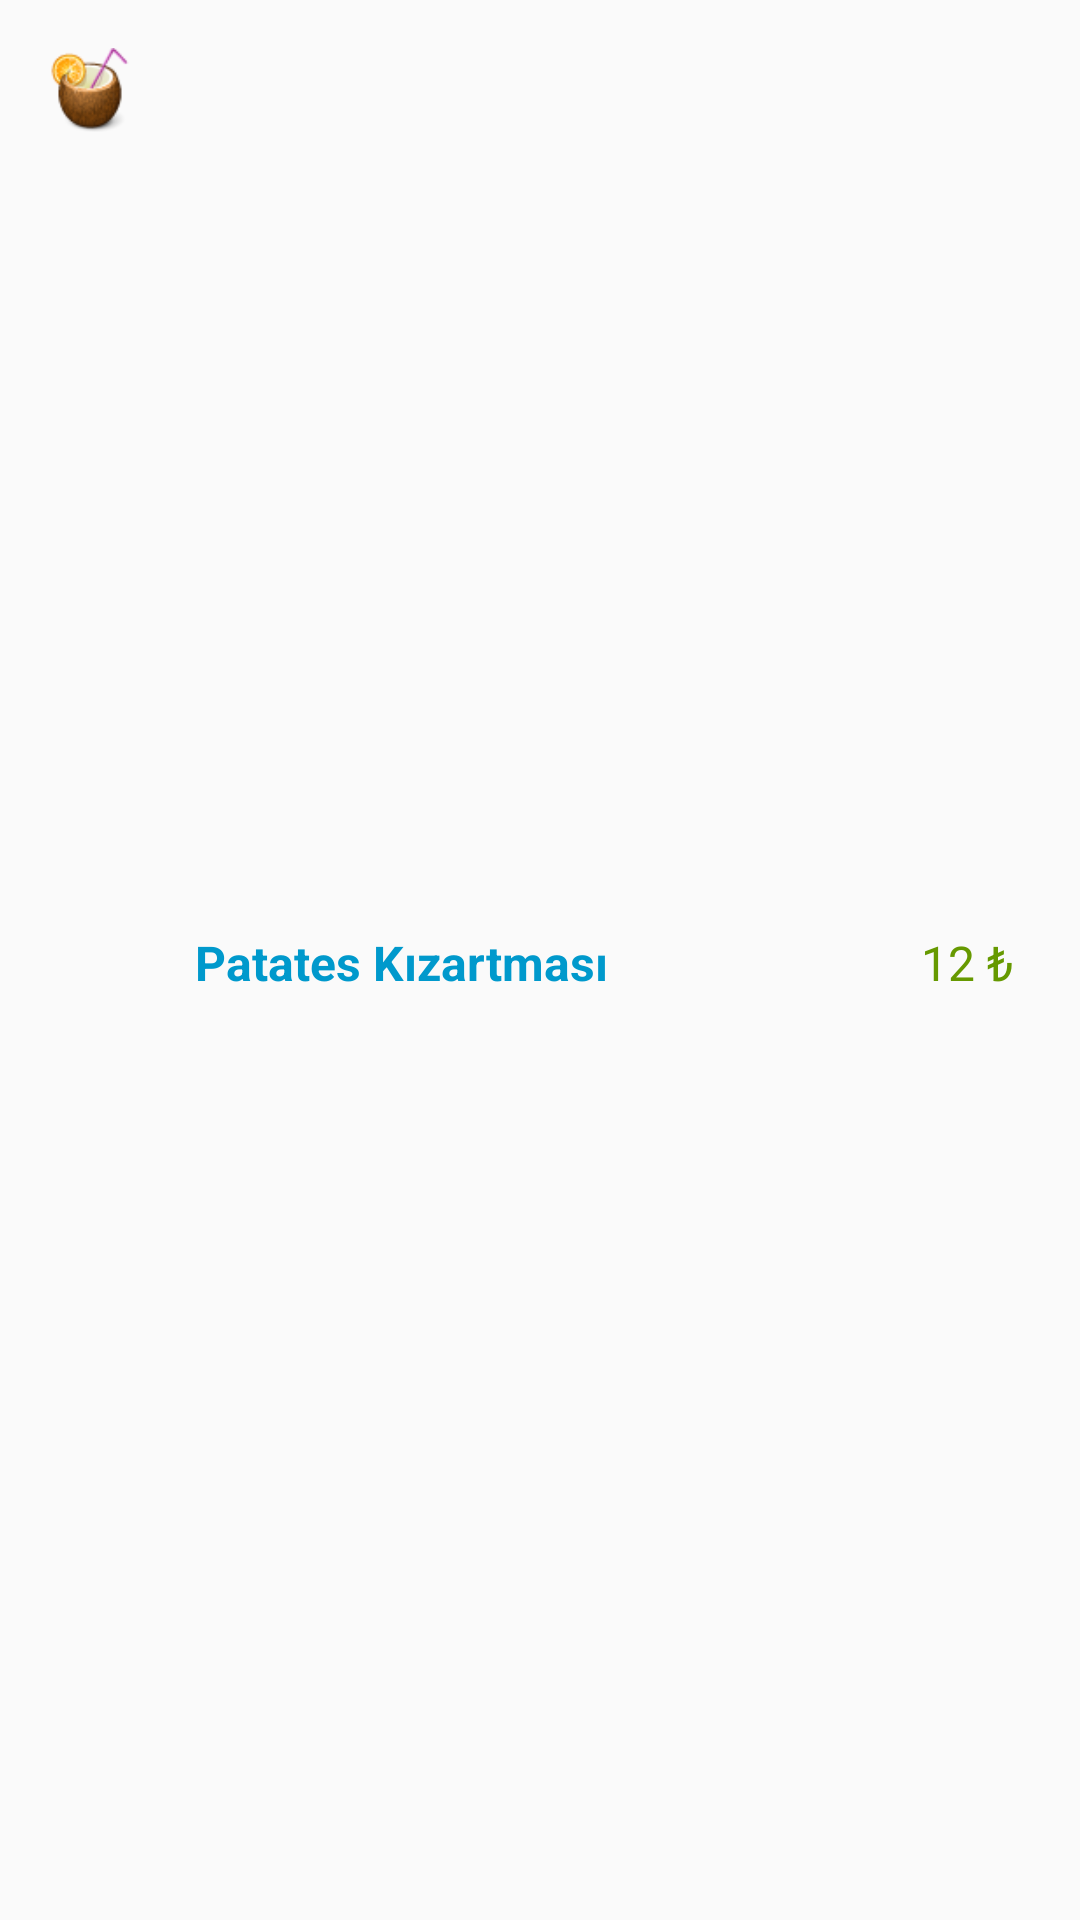

Locate icon controls on the screen. Image size 1080px×1920px, boxes as region(x1, y1, x2, y2).
drink: region(51, 48, 128, 130)
